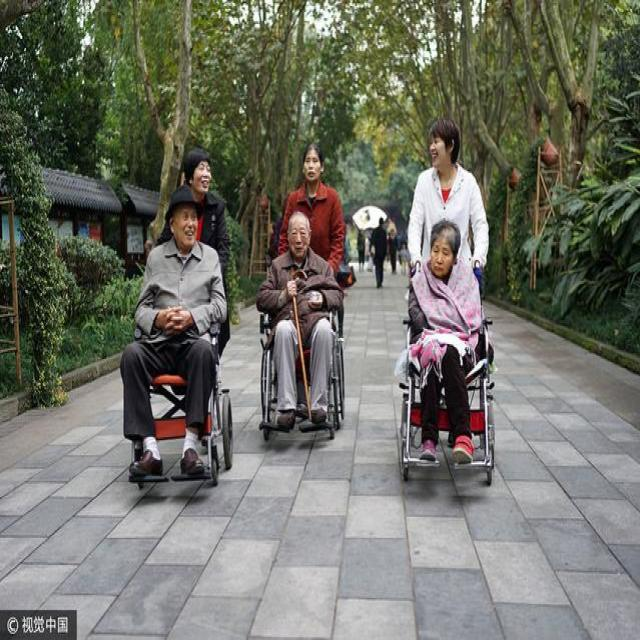wheelchairs: (389, 294, 505, 491), (121, 322, 241, 489), (242, 283, 356, 443)
